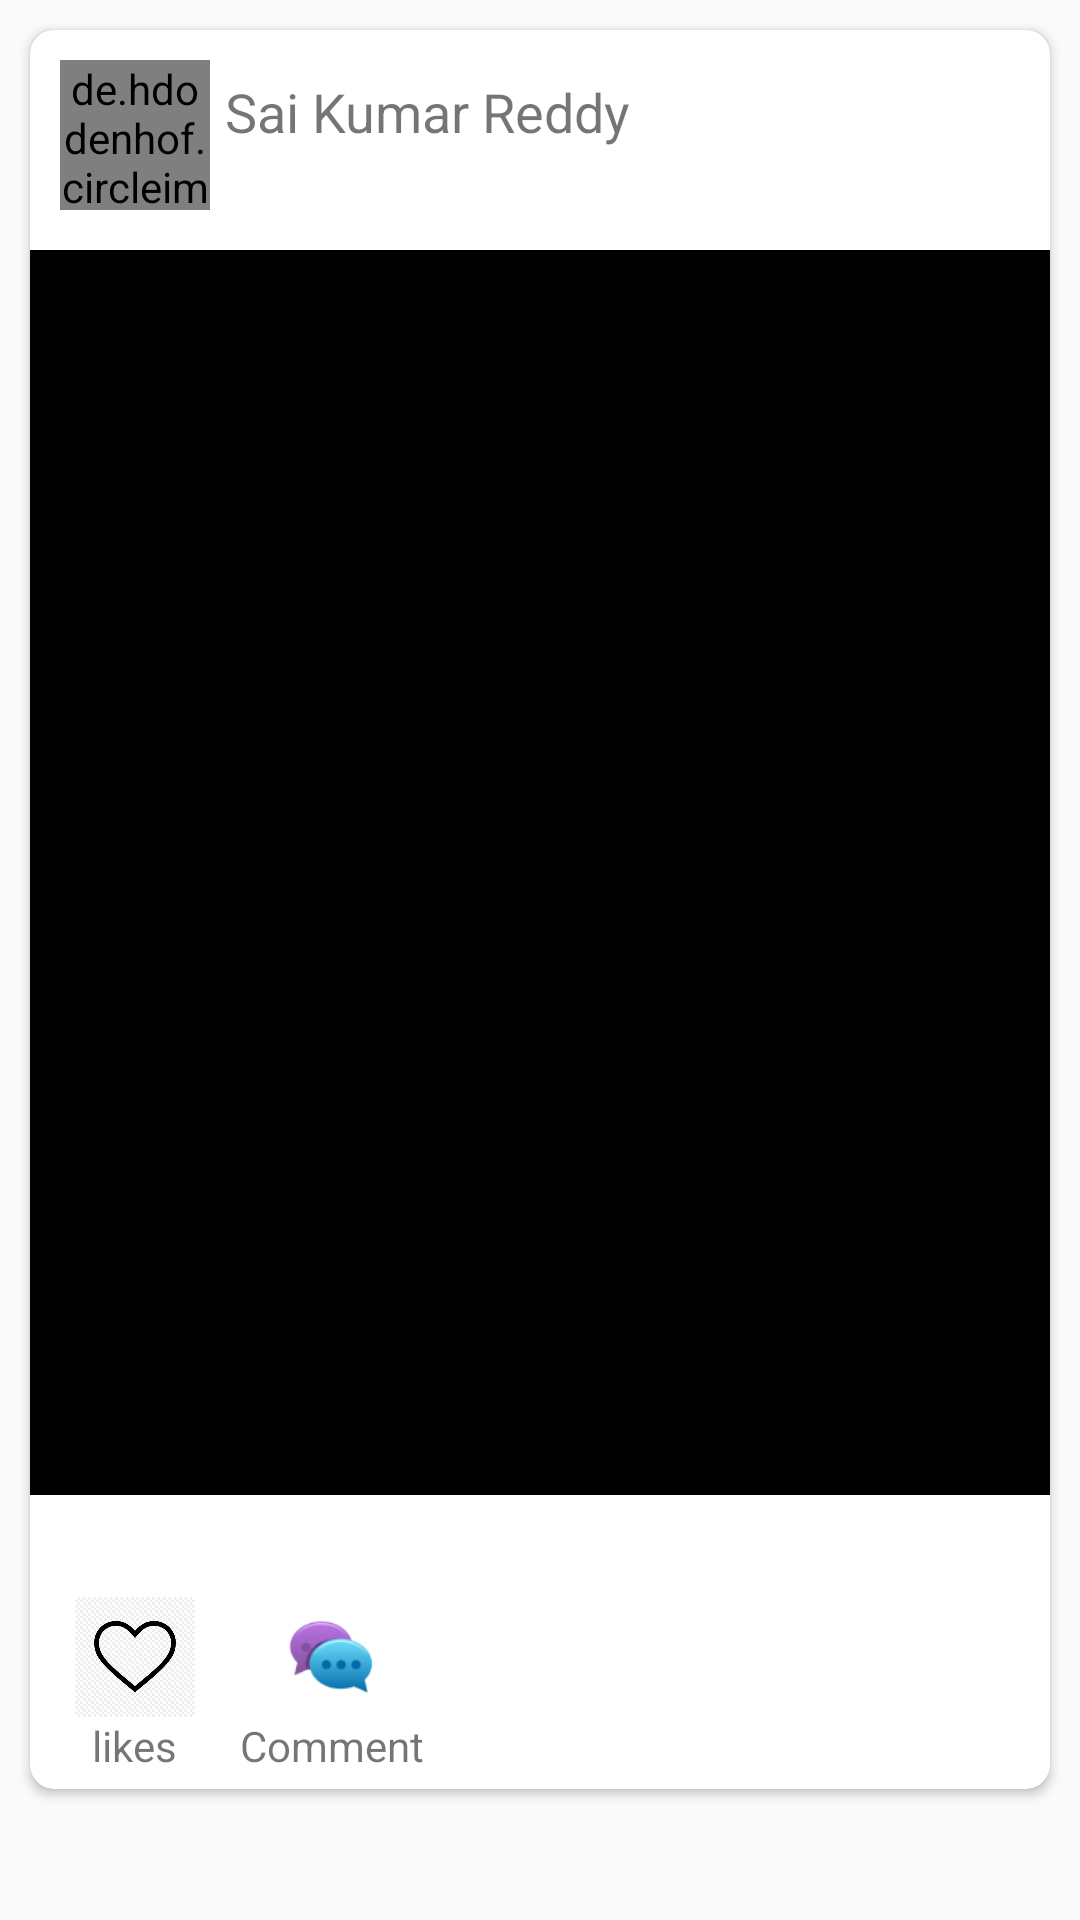

Icons on this 1080 × 1920 Android screen, each with the point to tap as (x=x, y=y):
heartunfill: (x=135, y=1656)
